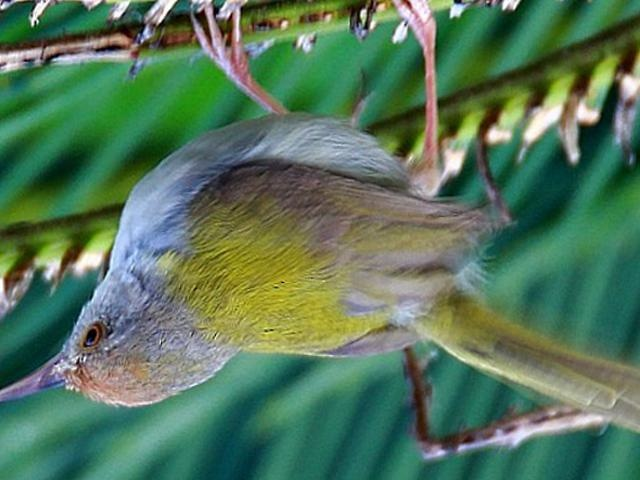tailorbird: (11, 16, 577, 417)
